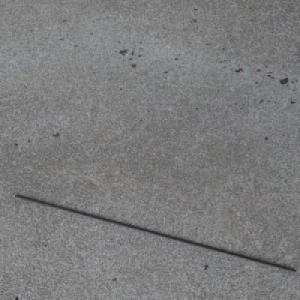LuggagePart: (13, 194, 297, 273)
